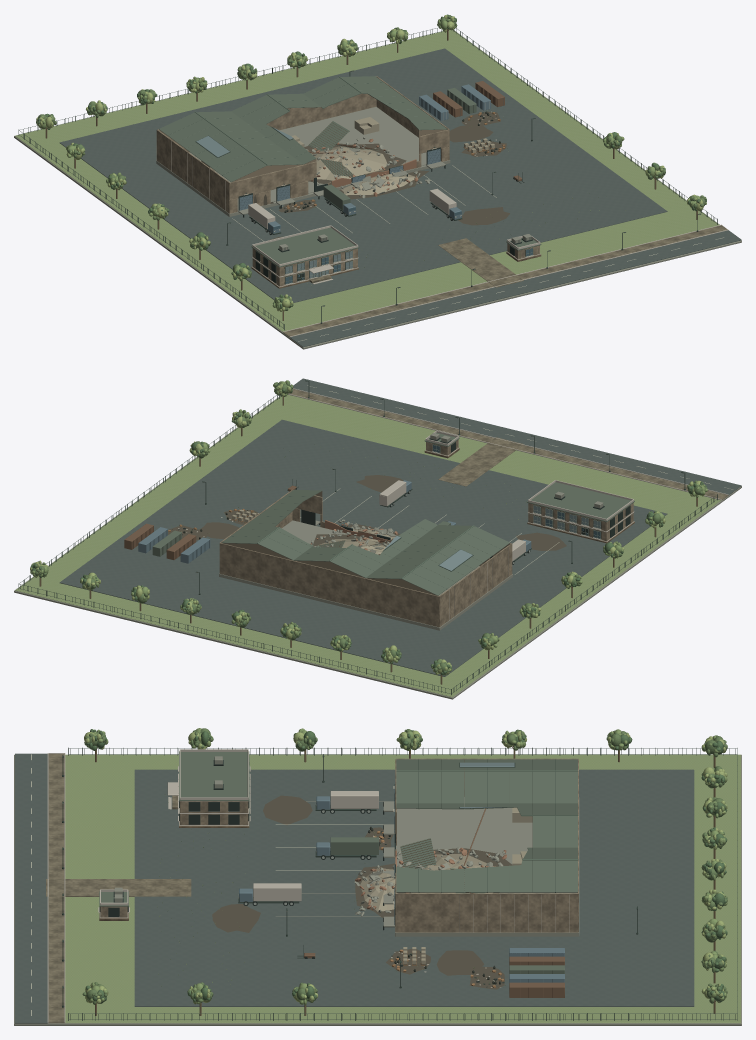
File: logistics-abandoned.glb
3 renders of one model, top to bottom at view 1: azimuth 30°, elevation 25°; view 2: azimuth 150°, elevation 25°; view 3: azimuth 270°, elevation 25°, orthographic. The views are drawn at different scales.
Parts seen in each view (by area): view 1: 材质批次_asphalt, 材质批次_grass, 材质批次_sage_metal_roof, 材质批次_limestone, 材质批次_poi_service_concrete, 材质批次_plaza_paving, 材质批次_warm_cream_trim, 材质批次_street_metal, 材质批次_abandoned_soot_damp, 材质批次_planter_gravel, 材质批次_poi_desaturated_blue, 材质批次_leaf_2 (+7 smaller); view 2: 材质批次_asphalt, 材质批次_grass, 材质批次_sage_metal_roof, 材质批次_limestone, 材质批次_poi_service_concrete, 材质批次_plaza_paving, 材质批次_street_metal, 材质批次_warm_cream_trim, 材质批次_abandoned_soot_damp, 材质批次_leaf_1, 材质批次_leaf_2, 材质批次_leaf_0 (+7 smaller); view 3: 材质批次_asphalt, 材质批次_grass, 材质批次_sage_metal_roof, 材质批次_poi_service_concrete, 材质批次_limestone, 材质批次_plaza_paving, 材质批次_street_metal, 材质批次_abandoned_soot_damp, 材质批次_warm_cream_trim, 材质批次_leaf_1, 材质批次_leaf_3, 材质批次_leaf_2 (+8 smaller).
Part boxes in pixels (x1,y1,x2,y2): 材质批次_asphalt: [59, 48, 741, 347]; 材质批次_grass: [15, 30, 719, 331]; 材质批次_sage_metal_roof: [159, 76, 541, 267]; 材质批次_limestone: [156, 76, 539, 286]; 材质批次_poi_service_concrete: [14, 30, 741, 349]; 材质批次_plaza_paving: [283, 225, 727, 337]; 材质批次_warm_cream_trim: [171, 111, 728, 337]; 材质批次_street_metal: [18, 27, 717, 330]; 材质批次_abandoned_soot_damp: [254, 111, 509, 240]; 材质批次_planter_gravel: [201, 117, 494, 195]; 材质批次_poi_desaturated_blue: [239, 84, 490, 233]; 材质批次_leaf_2: [36, 15, 703, 311]; 材质批次_asphalt: [59, 378, 741, 676]; 材质批次_grass: [15, 394, 720, 697]; 材质批次_sage_metal_roof: [152, 433, 634, 595]; 材质批次_limestone: [219, 439, 633, 627]; 材质批次_poi_service_concrete: [14, 397, 741, 699]; 材质批次_plaza_paving: [289, 389, 728, 499]; 材质批次_street_metal: [18, 380, 717, 694]; 材质批次_warm_cream_trim: [178, 388, 728, 620]; 材质批次_abandoned_soot_damp: [168, 475, 566, 550]; 材质批次_leaf_1: [34, 381, 707, 674]; 材质批次_leaf_2: [30, 382, 703, 674]; 材质批次_leaf_0: [30, 380, 707, 675]; 材质批次_asphalt: [15, 753, 694, 1023]; 材质批次_grass: [65, 754, 740, 1023]; 材质批次_sage_metal_roof: [99, 751, 577, 973]; 材质批次_poi_service_concrete: [14, 754, 741, 1025]; 材质批次_limestone: [100, 758, 578, 932]; 材质批次_plaza_paving: [46, 753, 191, 1023]; 材质批次_street_metal: [62, 747, 737, 1020]; 材质批次_abandoned_soot_damp: [212, 795, 512, 989]; 材质批次_warm_cream_trim: [47, 749, 569, 1023]; 材质批次_leaf_1: [82, 728, 727, 1004]; 材质批次_leaf_3: [85, 729, 727, 1003]; 材质批次_leaf_2: [84, 728, 727, 1004].
Size of the model in its own units: 140 by 13.93 by 160.
Materials: 31 (5 with a texture image).
